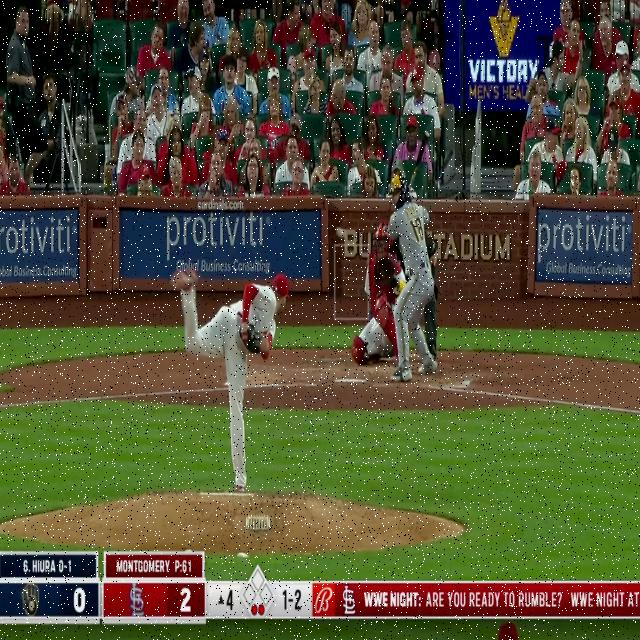baseball: (336, 224, 346, 241)
